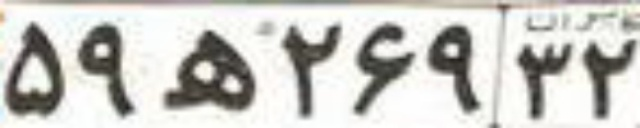2: (279, 21, 342, 116), (582, 41, 636, 117)
3: (516, 41, 573, 117)
5: (0, 21, 75, 117)
6: (352, 22, 416, 117)
9: (76, 22, 138, 116), (423, 22, 481, 112)
he: (151, 28, 258, 112)
